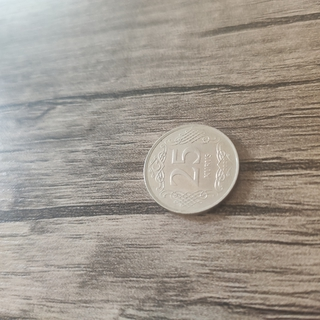25KURUS: (141, 122, 241, 216)
